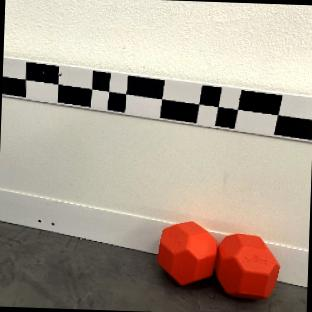V5_RED: (155, 219, 281, 300), (215, 233, 279, 298), (158, 221, 216, 285)
